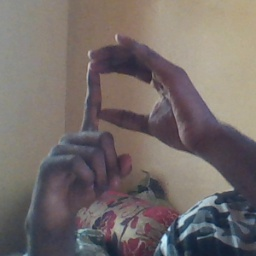P: (45, 31, 183, 193)
